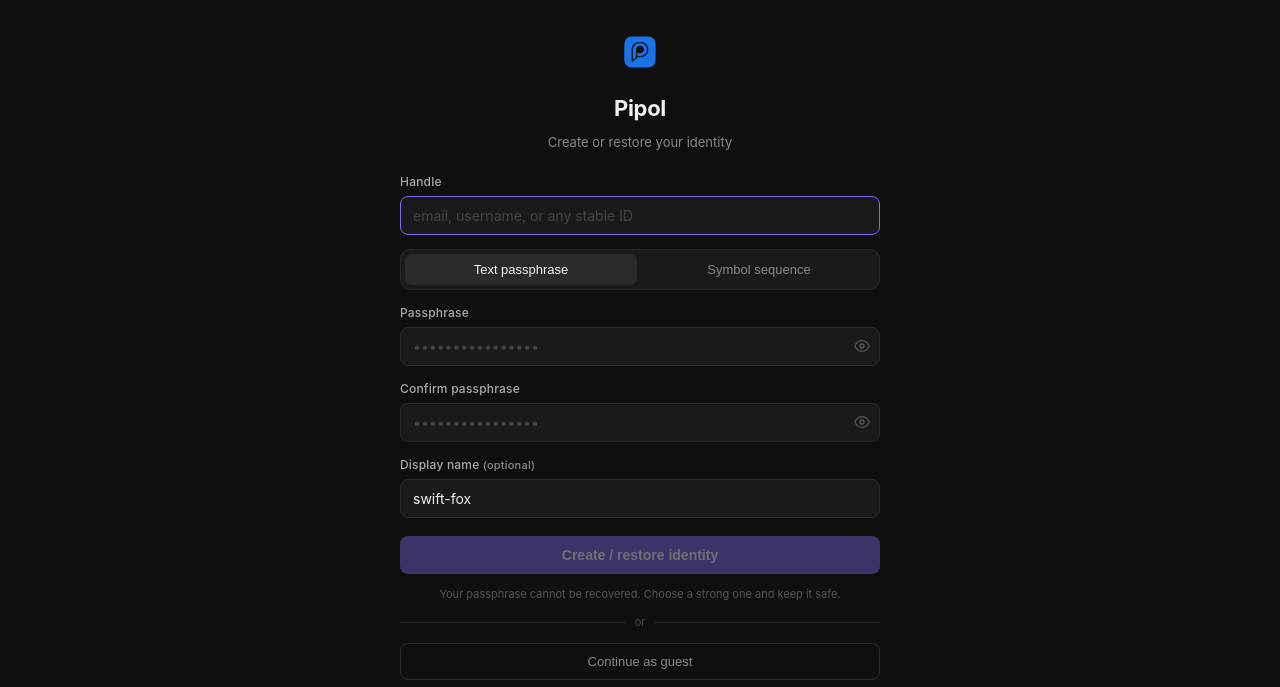
LoginScreen — method selector › switches to symbol picker when Symbol sequence is clicked
The width and height of the screenshot is (1280, 687).
Click the button "Symbol sequence": coordinates (759, 269) [643,254,875,284]
(page scrolled)
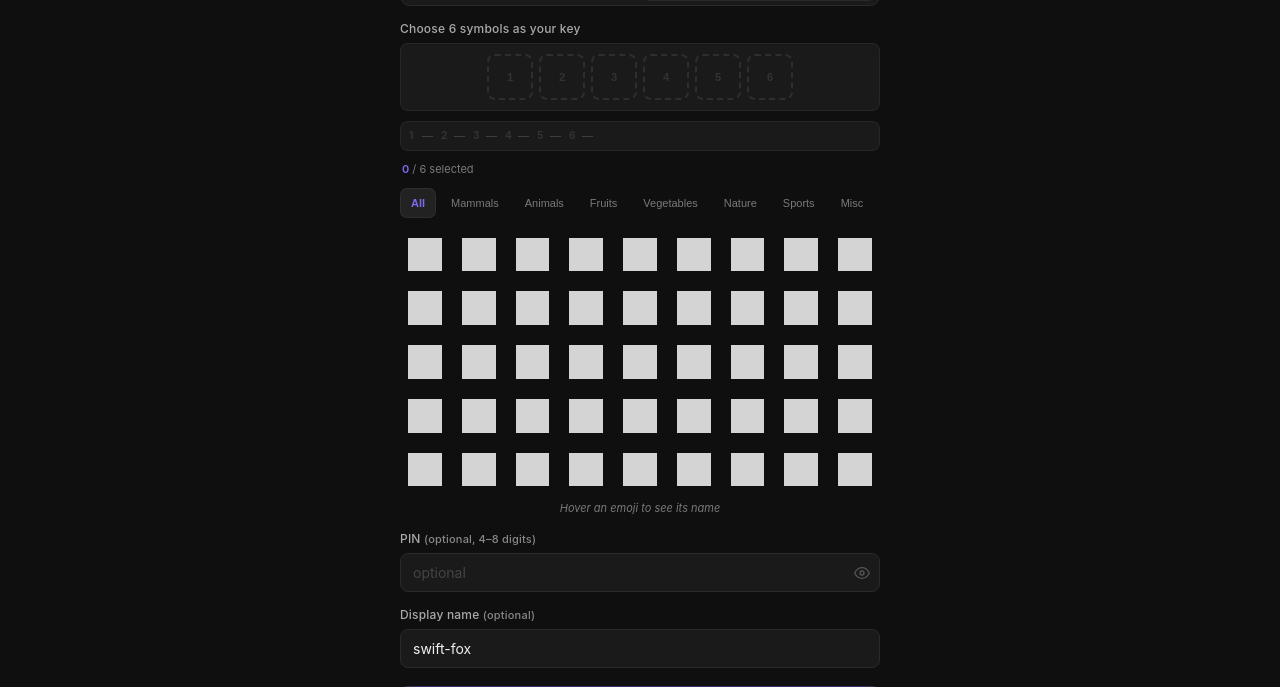
expect the list is shown: met, box [400,230,880,490]
expect the label labelled "Passphrase" is gone: met
